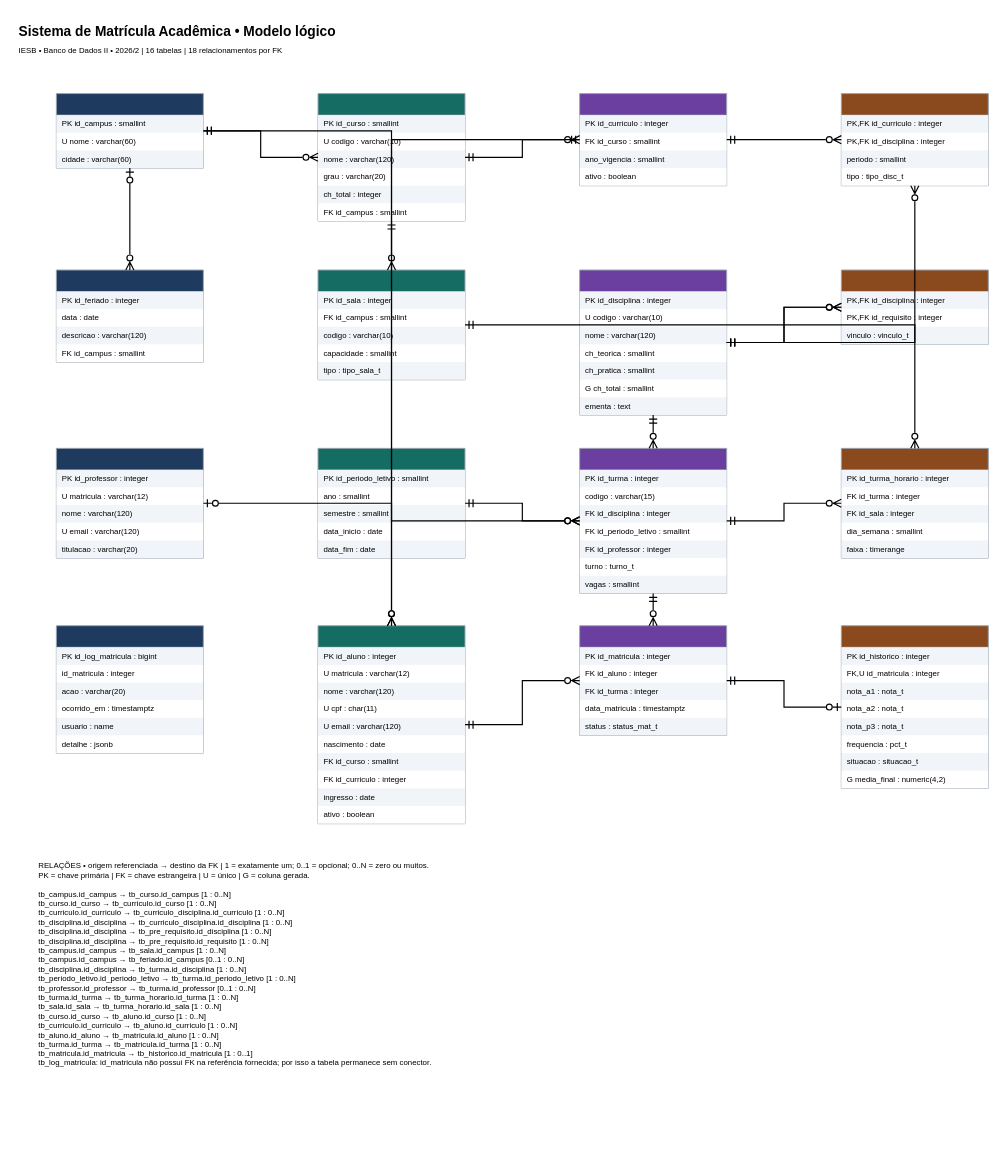
This 1005x1165 diagram has some shape labels left out. Here are the shapes that lost their labels. From the top down, the box of each, then its label:
(55, 93, 203, 168): tb_campus
(579, 93, 727, 186): tb_curriculo
(840, 93, 988, 186): tb_curriculo_disciplina
(317, 93, 465, 221): tb_curso
(55, 269, 203, 362): tb_feriado
(317, 269, 465, 380): tb_sala
(840, 269, 988, 344): tb_pre_requisito
(579, 269, 727, 415): tb_disciplina
(55, 447, 203, 558): tb_professor
(317, 447, 465, 558): tb_periodo_letivo
(579, 447, 727, 593): tb_turma
(840, 447, 988, 558): tb_turma_horario
(55, 625, 203, 753): tb_log_matricula
(579, 625, 727, 735): tb_matricula
(317, 625, 465, 824): tb_aluno
(840, 625, 988, 788): tb_historico
